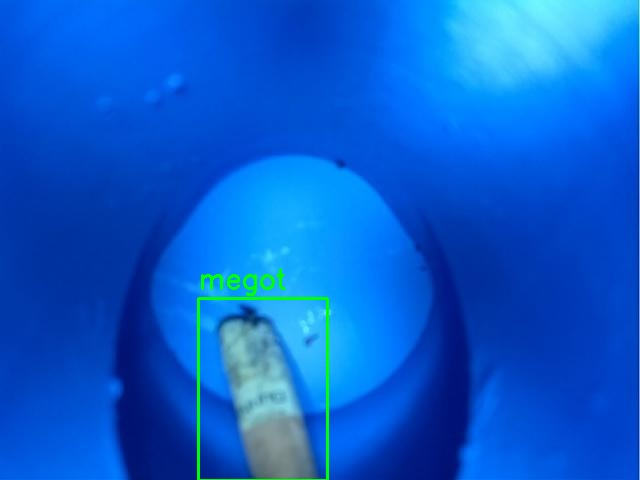megot: (198, 298, 327, 480)
